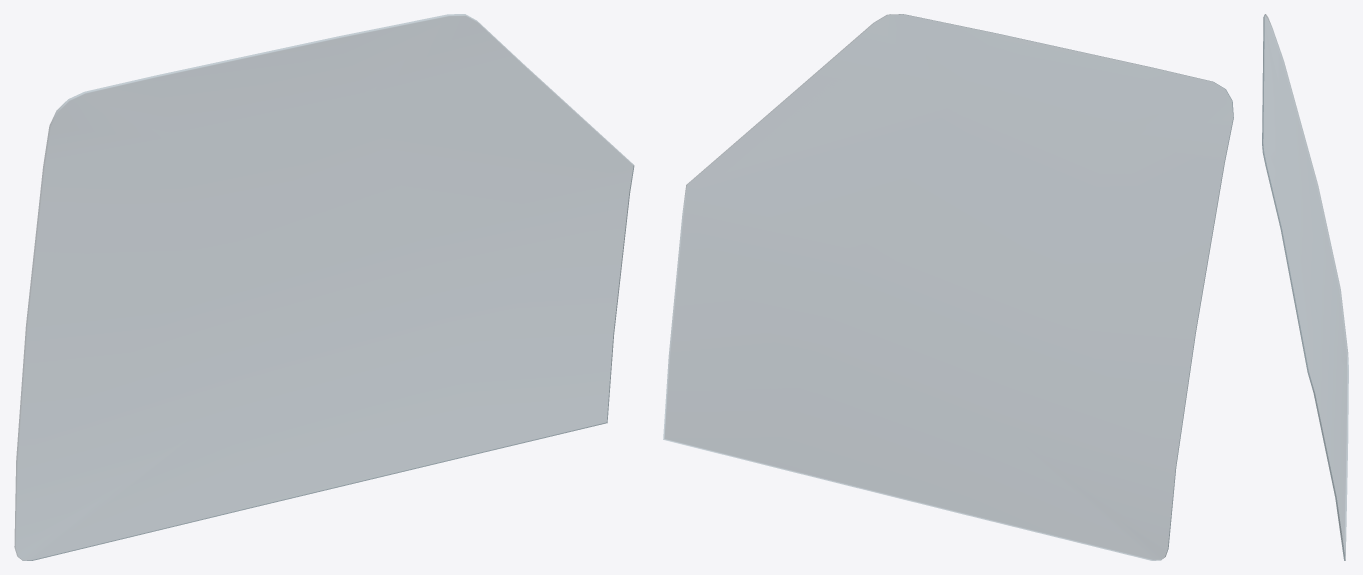
The picture shows the model from 3 angles, left to right: view 1: azimuth 30°, elevation 25°; view 2: azimuth 150°, elevation 25°; view 3: azimuth 270°, elevation 25°; orthographic projection. The views are drawn at different scales.
Visible parts, largest first — view 1: SM_Ambulance_Door_FL_Glass_Ext2; view 2: SM_Ambulance_Door_FL_Glass_Ext2; view 3: SM_Ambulance_Door_FL_Glass_Ext2.
Part boxes in pixels (bbox=[...]): SM_Ambulance_Door_FL_Glass_Ext2: bbox=[14, 14, 634, 560]; SM_Ambulance_Door_FL_Glass_Ext2: bbox=[663, 14, 1233, 560]; SM_Ambulance_Door_FL_Glass_Ext2: bbox=[1262, 14, 1348, 560].
Bounding box in the file's own units: 0.6707 × 0.5413 × 0.1213.
